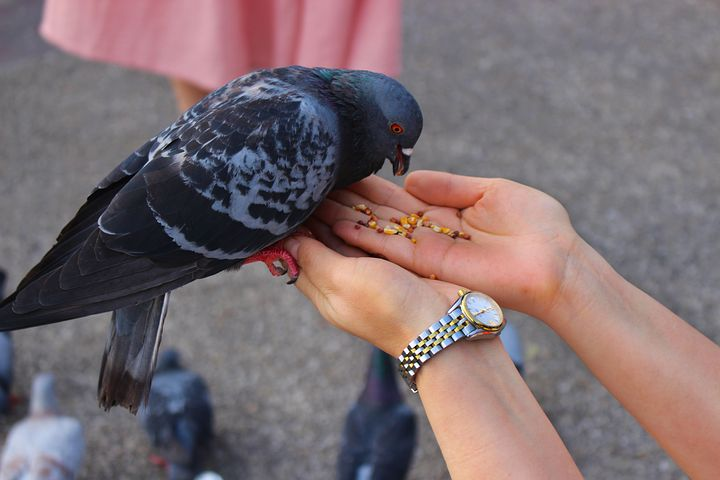palmhand: (332, 166, 569, 303)
